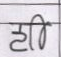i_matra: (33, 14, 47, 49)
